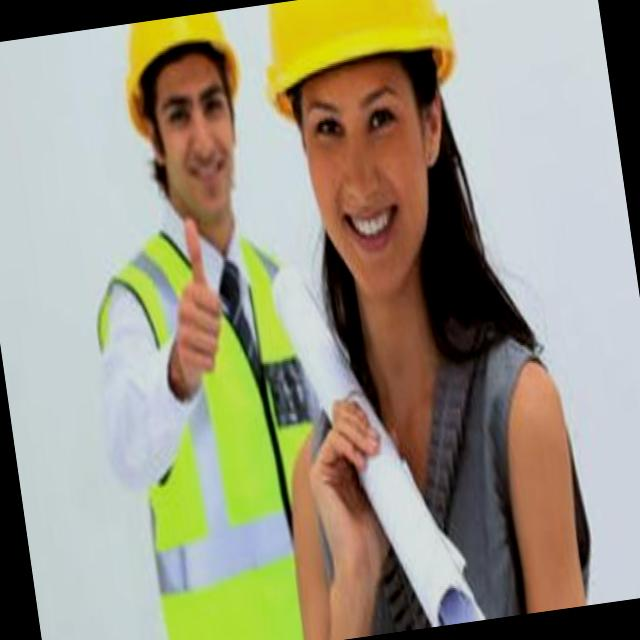helmet: (250, 0, 470, 95), (96, 10, 245, 106)
no-goggles: (283, 74, 434, 161), (144, 74, 242, 146)
no-vest: (310, 348, 576, 636)
vest: (96, 224, 347, 640)
